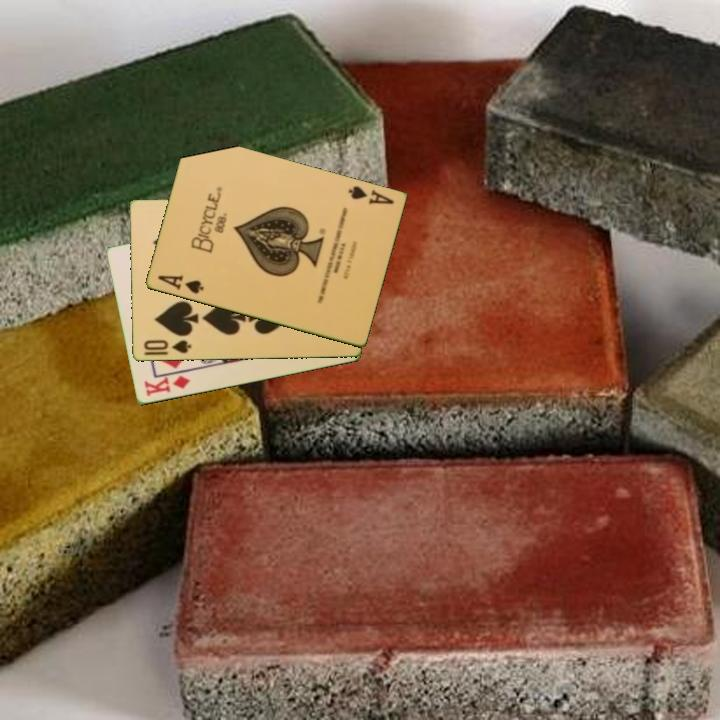10s: (140, 337, 194, 356)
As: (344, 182, 396, 208), (154, 272, 206, 297)
Kd: (140, 372, 193, 400)
